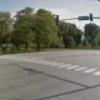traffic lights: (54, 14, 60, 26), (90, 12, 94, 22)
